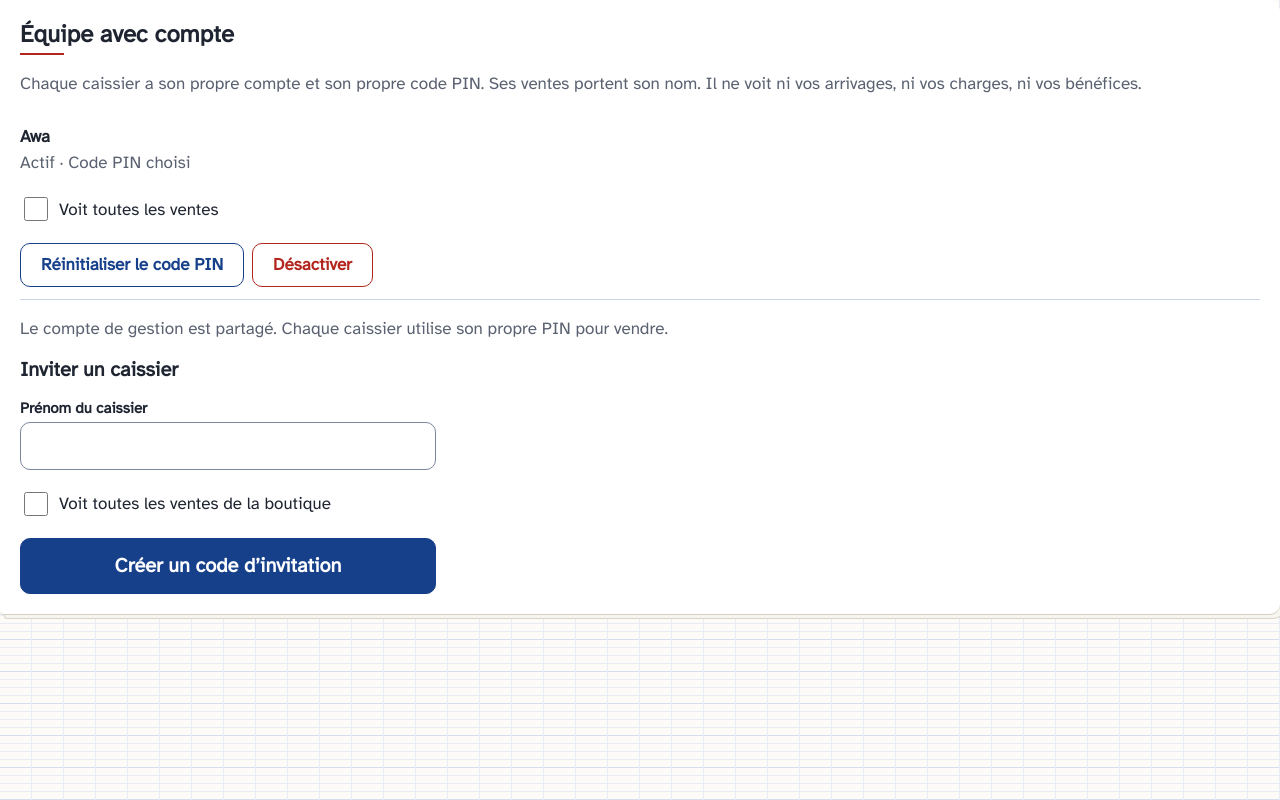
Scenario: TeamPanel « Équipe » (owner) › creates an invite: the code is shown once, with copy and WhatsApp
The width and height of the screenshot is (1280, 800).
In the field labelled "Prénom du caissier": coordinates (228, 446) [20,422,436,470], type "Bema"
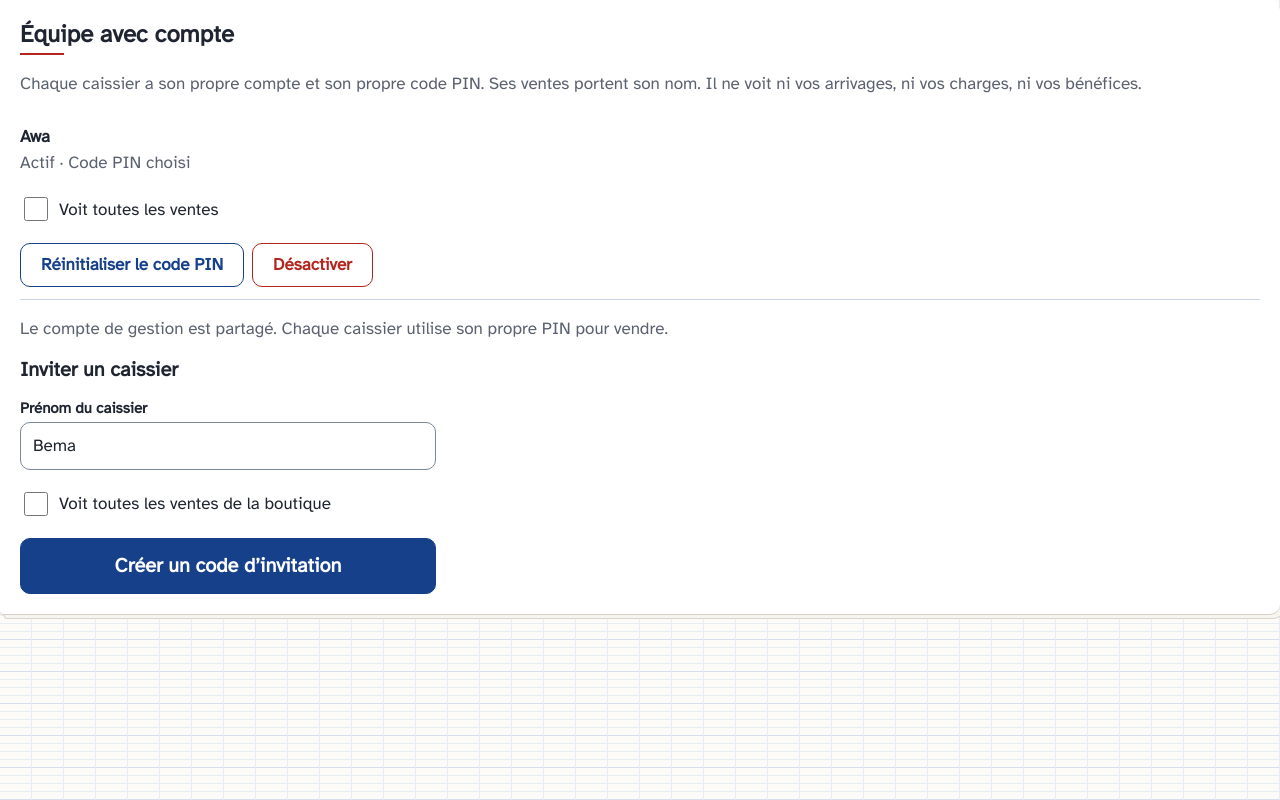
Click the button "Créer un code d’invitation": coordinates (228, 566) [20,538,436,594]
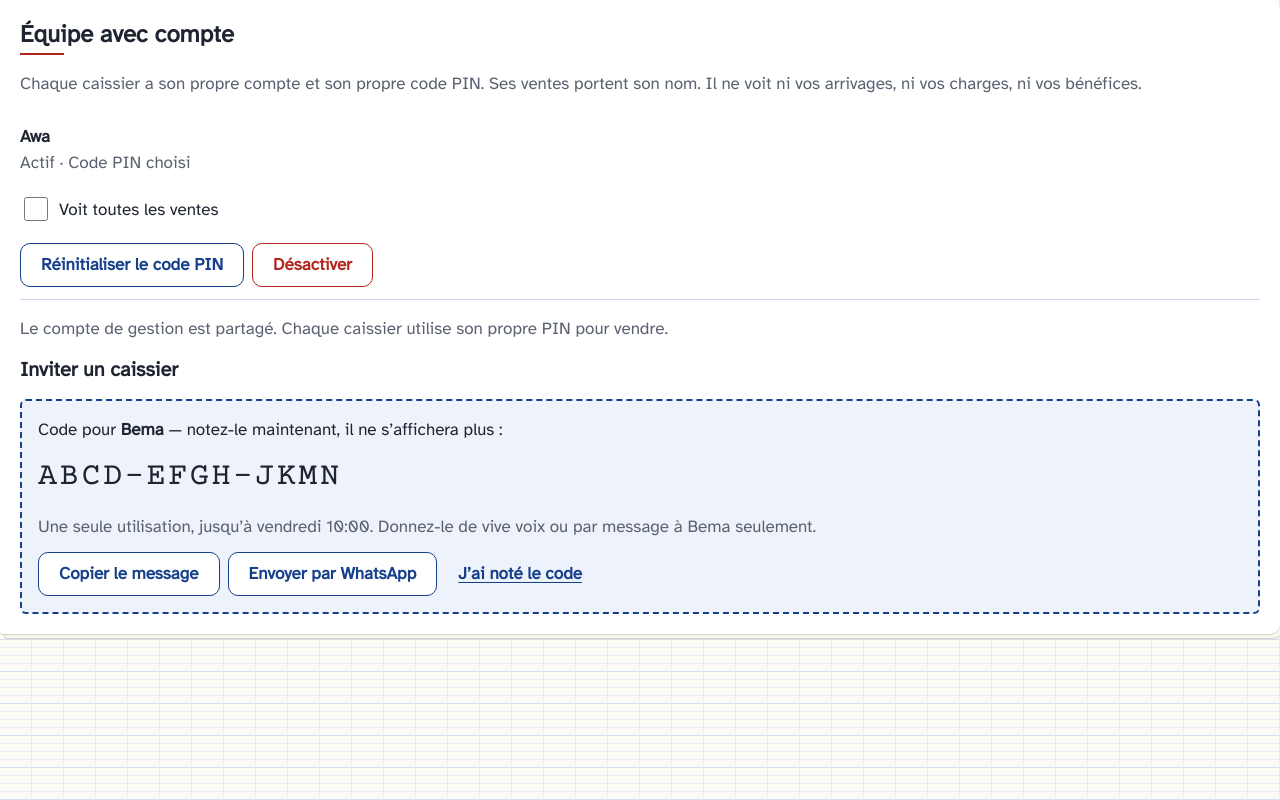
Check: the text "ABCD-EFGH-JKMN" is shown, box [38,459,342,495]
Check: the button "Copier le message" is shown, box [38,552,220,596]
Click the button "J’ai noté le code": coordinates (520, 574) [445,552,595,596]
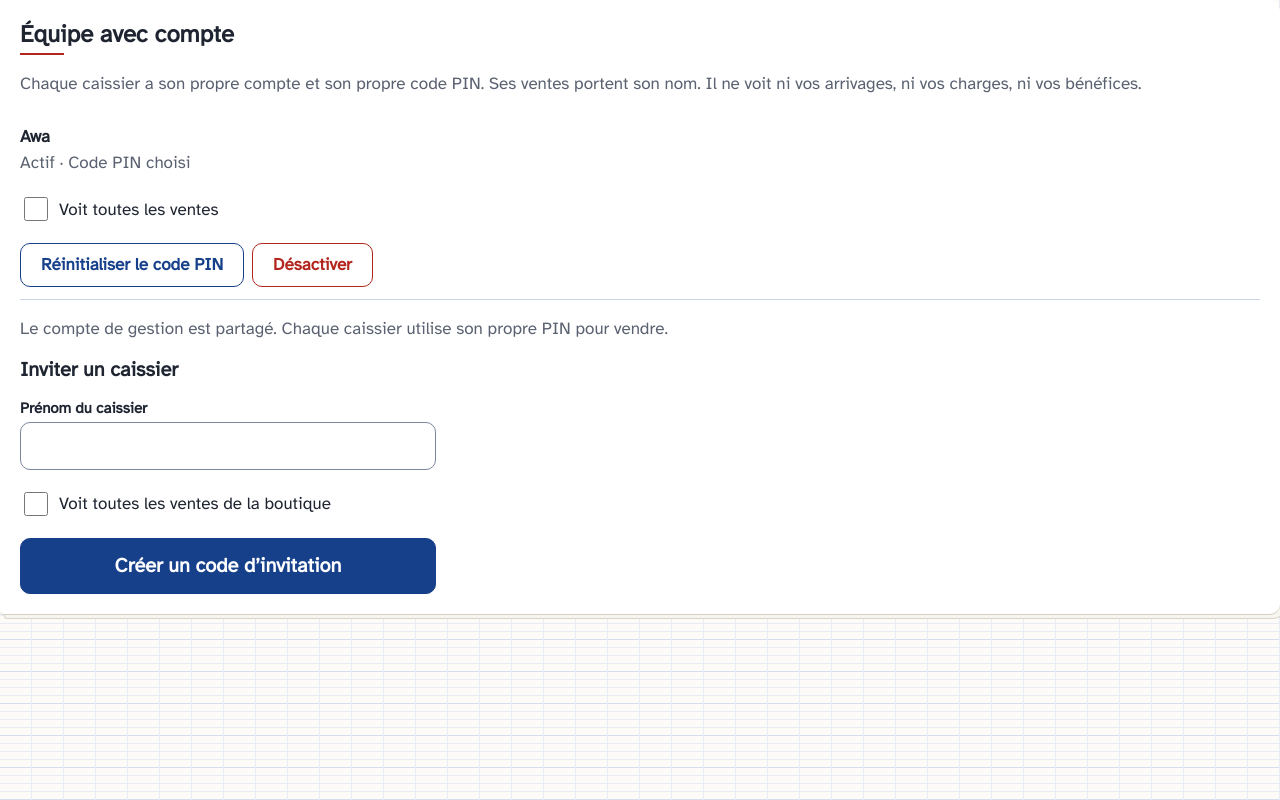
Check: the text "ABCD-EFGH-JKMN" is gone
